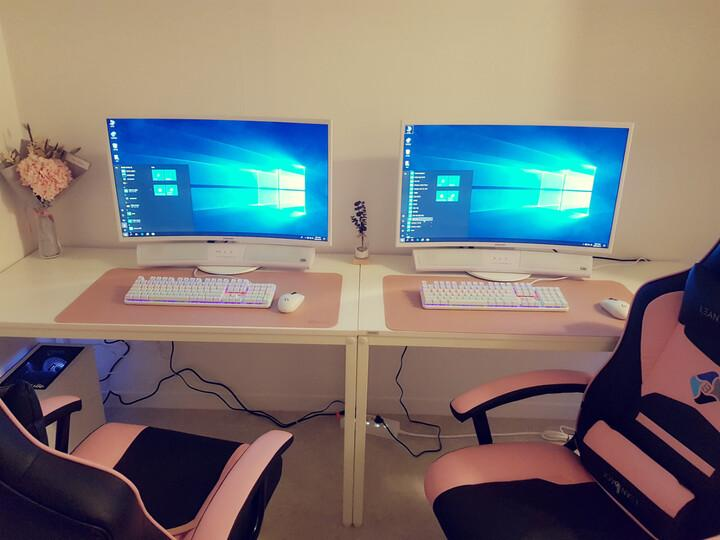keyboard: (123, 274, 276, 308), (419, 278, 569, 312)
mouse: (598, 294, 630, 319), (277, 291, 304, 313)
